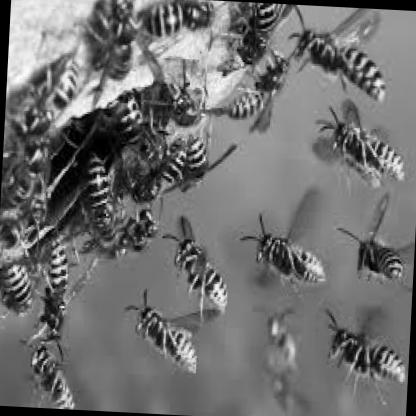other: (286, 14, 397, 115), (243, 220, 332, 300)
